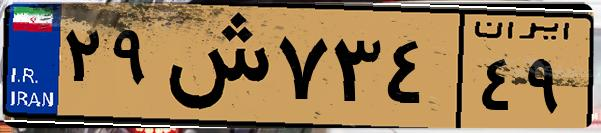2: (57, 26, 110, 100)
3: (330, 28, 385, 110)
4: (385, 28, 445, 110), (475, 38, 525, 113)
7: (270, 28, 330, 110)
9: (525, 38, 570, 115), (110, 28, 158, 98)
ش: (158, 12, 270, 120)
